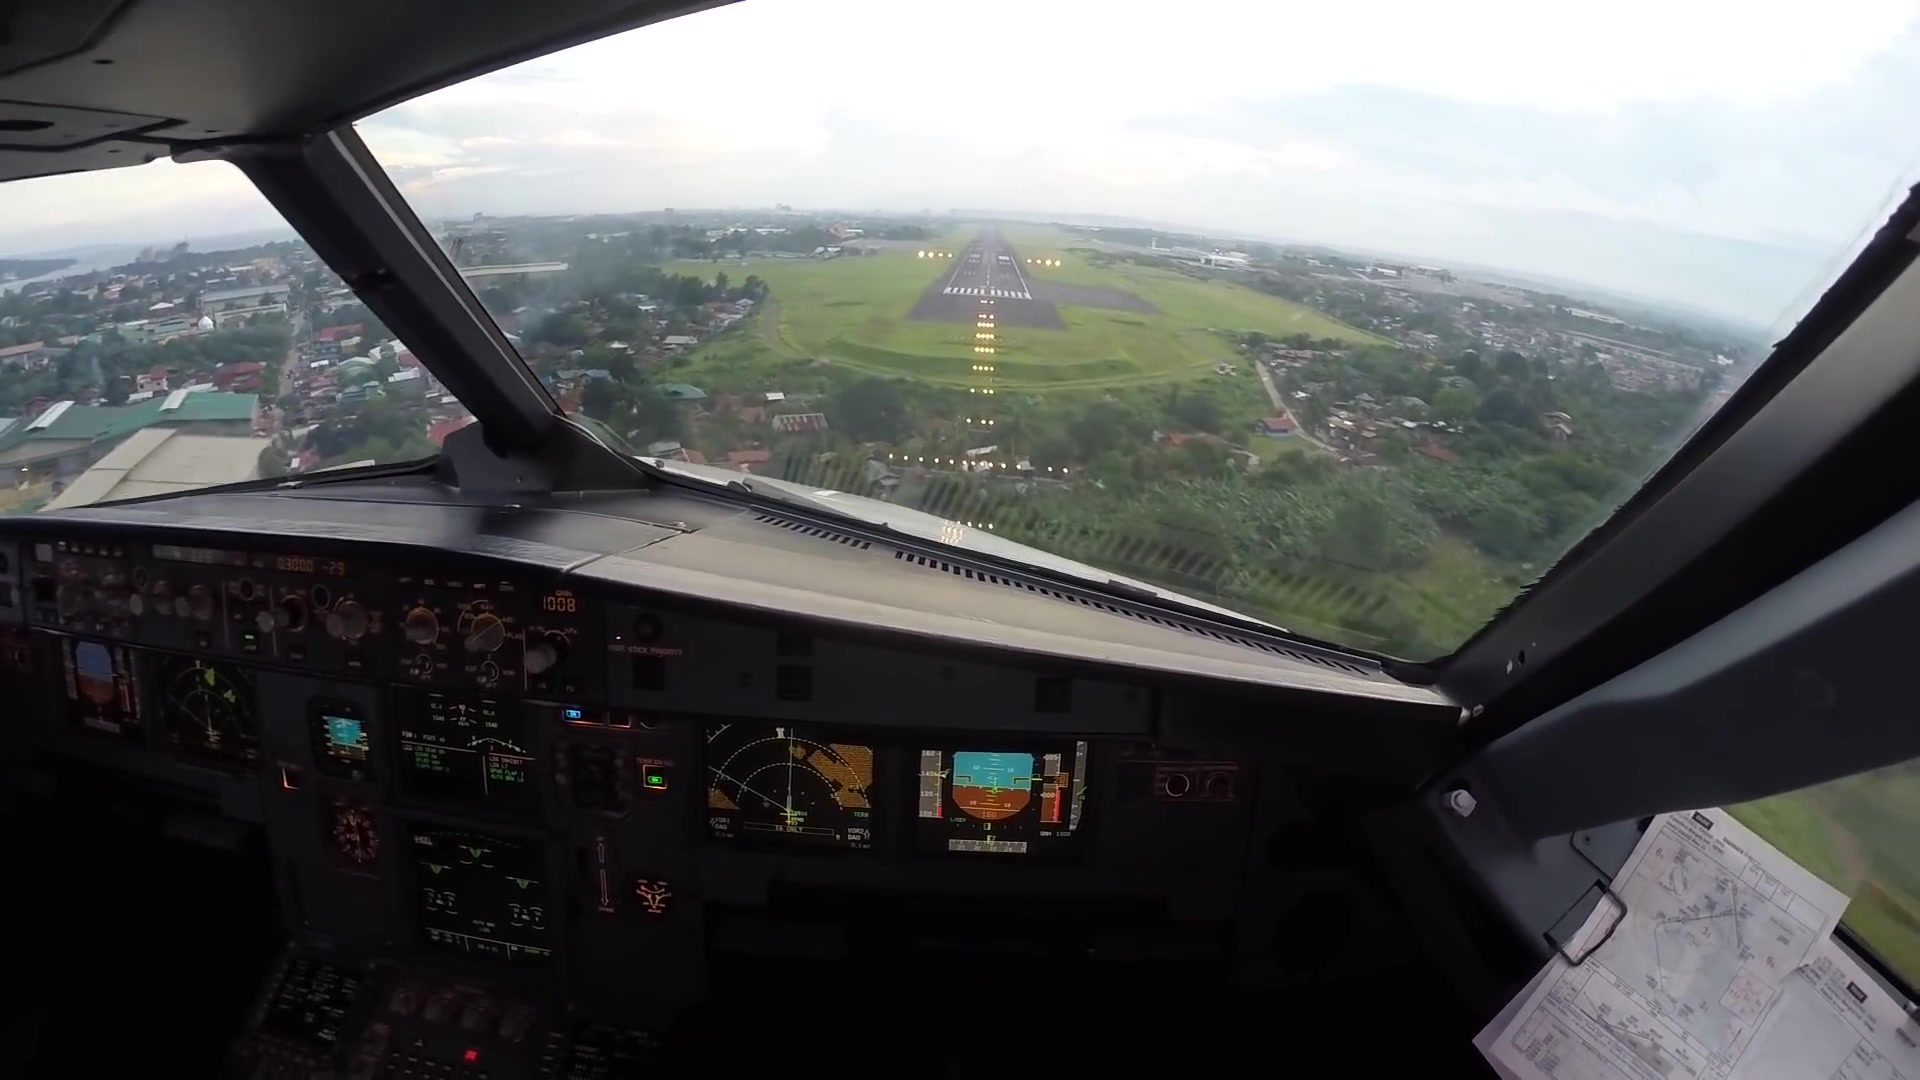entrance: (942, 281, 1036, 305)
runway: (905, 229, 1064, 330)
